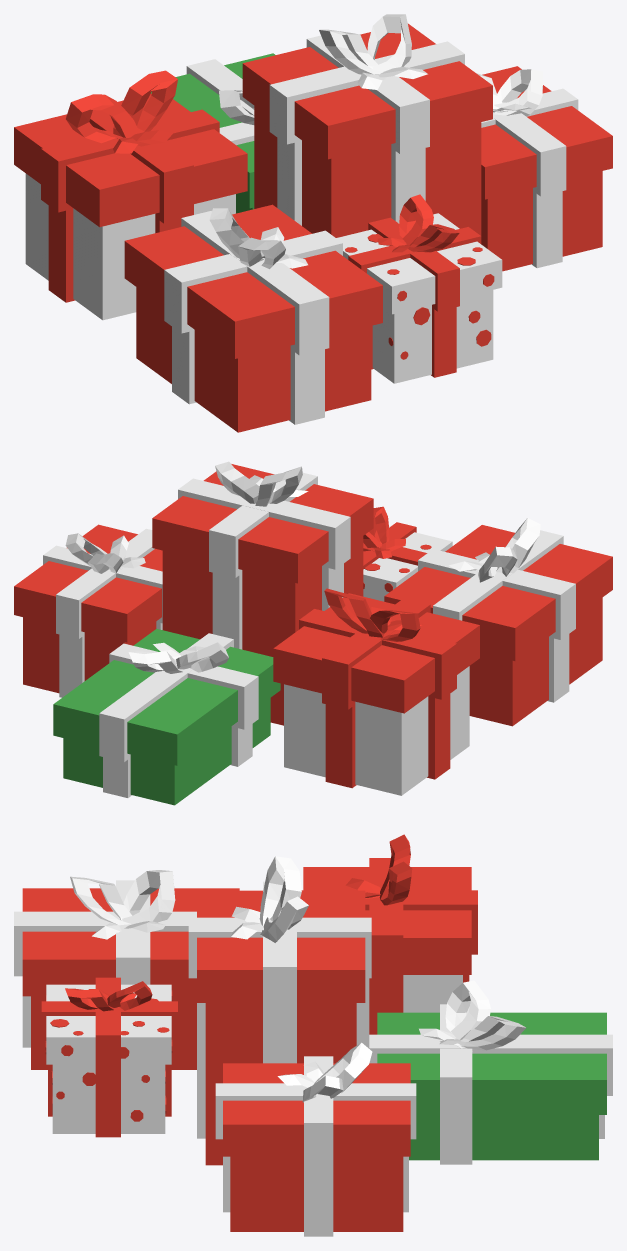
File: christmasPresents.dae
3 views of the same model, one above another, from view 1: azimuth 30°, elevation 25°; view 2: azimuth 150°, elevation 25°; view 3: azimuth 270°, elevation 25° (orthographic). The views are drawn at different scales.
Parts seen in each view (by area): view 1: presents; view 2: presents; view 3: presents.
Boxes of the visible parts, <box> form: presents: <box>14,14,612,432</box>; presents: <box>14,461,612,805</box>; presents: <box>14,834,612,1236</box>.
Size of the model in its own units: 2.62 by 2.81 by 1.33.
